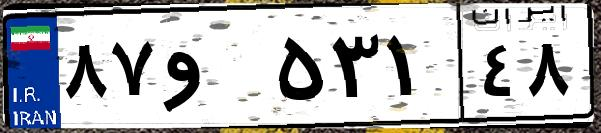1: (385, 28, 445, 110)
3: (330, 28, 385, 110)
4: (475, 38, 525, 113)
5: (270, 28, 330, 110)
7: (110, 28, 158, 98)
8: (57, 26, 110, 100), (525, 38, 570, 115)
و: (158, 20, 270, 120)
